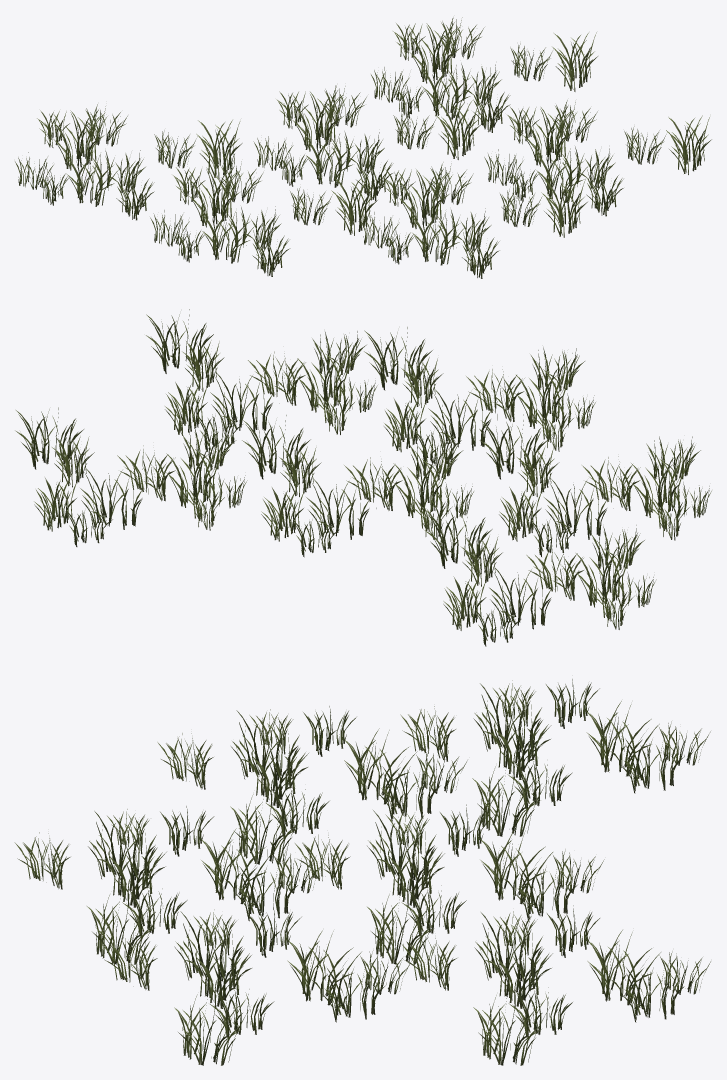
The model's file is Grass14.fbx.
The picture shows the model from 3 angles, top to bottom: view 1: azimuth 30°, elevation 25°; view 2: azimuth 150°, elevation 25°; view 3: azimuth 270°, elevation 25°; orthographic projection. The views are drawn at different scales.
Visible parts, largest first — view 1: LV_Veolan_Foliage_FieldGrass02_PM_YCY.010; view 2: LV_Veolan_Foliage_FieldGrass02_PM_YCY.010; view 3: LV_Veolan_Foliage_FieldGrass02_PM_YCY.010.
Boxes of the visible parts, x1,y1,x2,y2 form: LV_Veolan_Foliage_FieldGrass02_PM_YCY.010: (15,17,711,278); LV_Veolan_Foliage_FieldGrass02_PM_YCY.010: (15,309,711,646); LV_Veolan_Foliage_FieldGrass02_PM_YCY.010: (14,679,710,1065).
Bounding box in the file's own units: 2.41 × 0.185 × 1.99.
6 materials, 6 textured.
